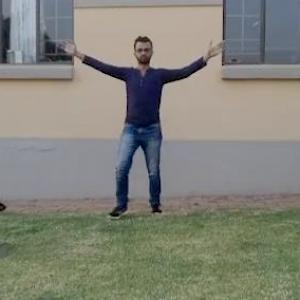takeoff: (72, 33, 231, 204)
